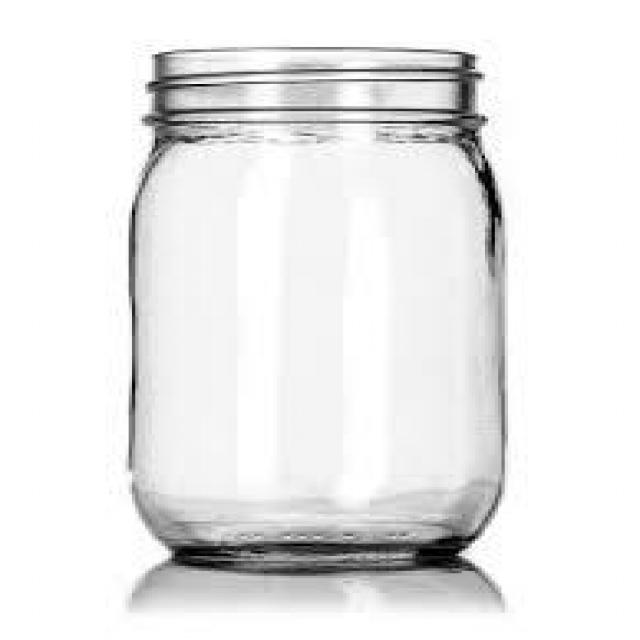non-organic waste: (120, 42, 513, 573)
